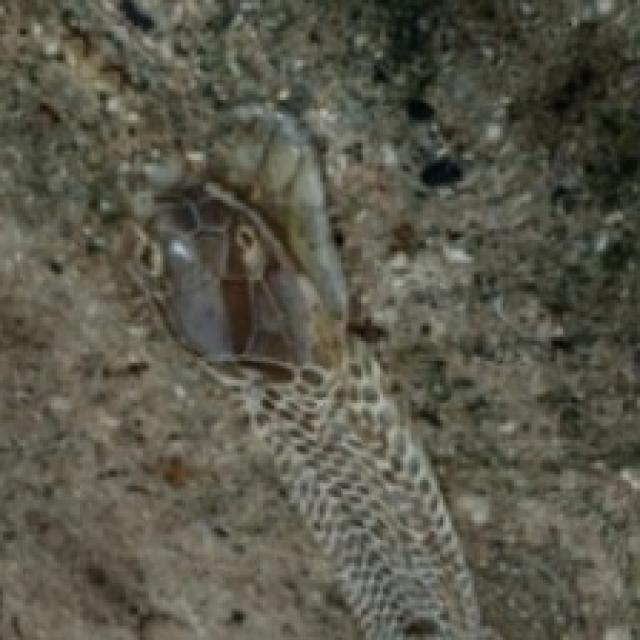king cobra: (111, 103, 491, 637)
